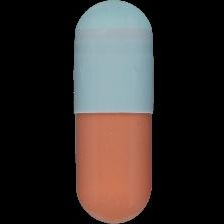16729-094: (0, 0, 224, 224)
